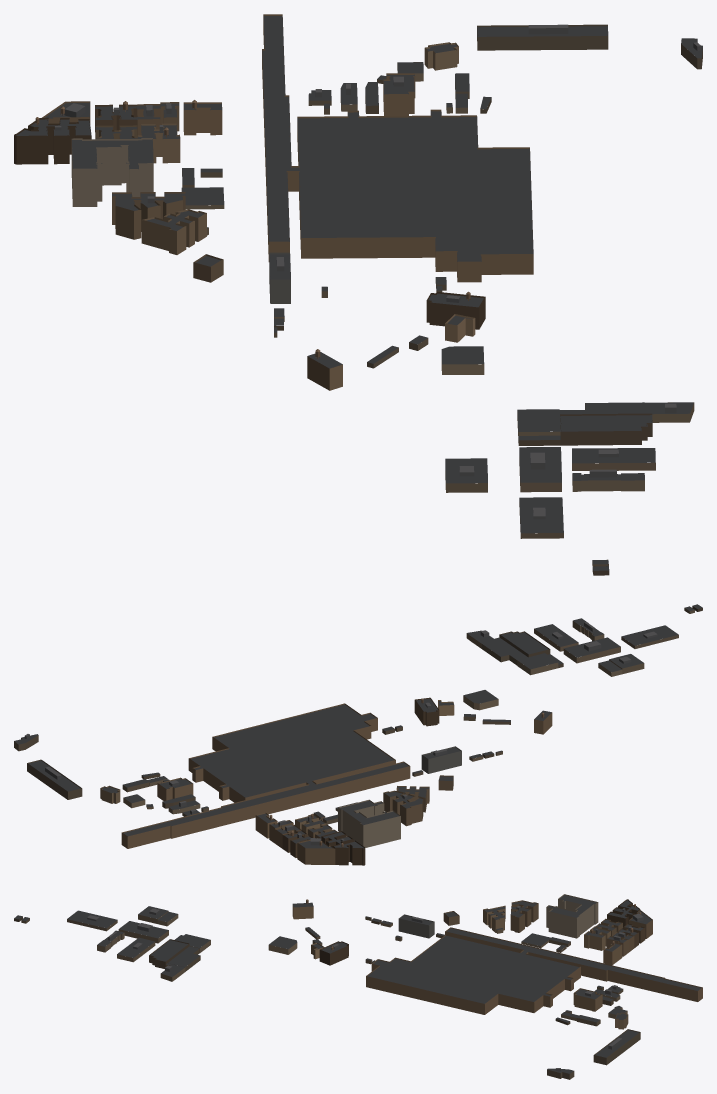
Rendered from manhattan_+03_+06.glb.
3 renders of one model, top to bottom at view 1: azimuth 30°, elevation 25°; view 2: azimuth 150°, elevation 25°; view 3: azimuth 270°, elevation 25°, orthographic. The views are drawn at different scales.
Parts seen in each view (by area): view 1: BLD_lowrise_+03_+06, BLD_midrise_+03_+06; view 2: BLD_lowrise_+03_+06, BLD_midrise_+03_+06; view 3: BLD_lowrise_+03_+06, BLD_midrise_+03_+06.
Boxes of the visible parts, bbox=[...] form: BLD_lowrise_+03_+06: bbox=[14, 14, 702, 575]; BLD_midrise_+03_+06: bbox=[71, 138, 153, 206]; BLD_lowrise_+03_+06: bbox=[14, 604, 702, 865]; BLD_midrise_+03_+06: bbox=[338, 799, 400, 847]; BLD_lowrise_+03_+06: bbox=[14, 899, 702, 1079]; BLD_midrise_+03_+06: bbox=[546, 894, 598, 938].
Bounding box in the file's own units: 534 × 30.15 × 921.
